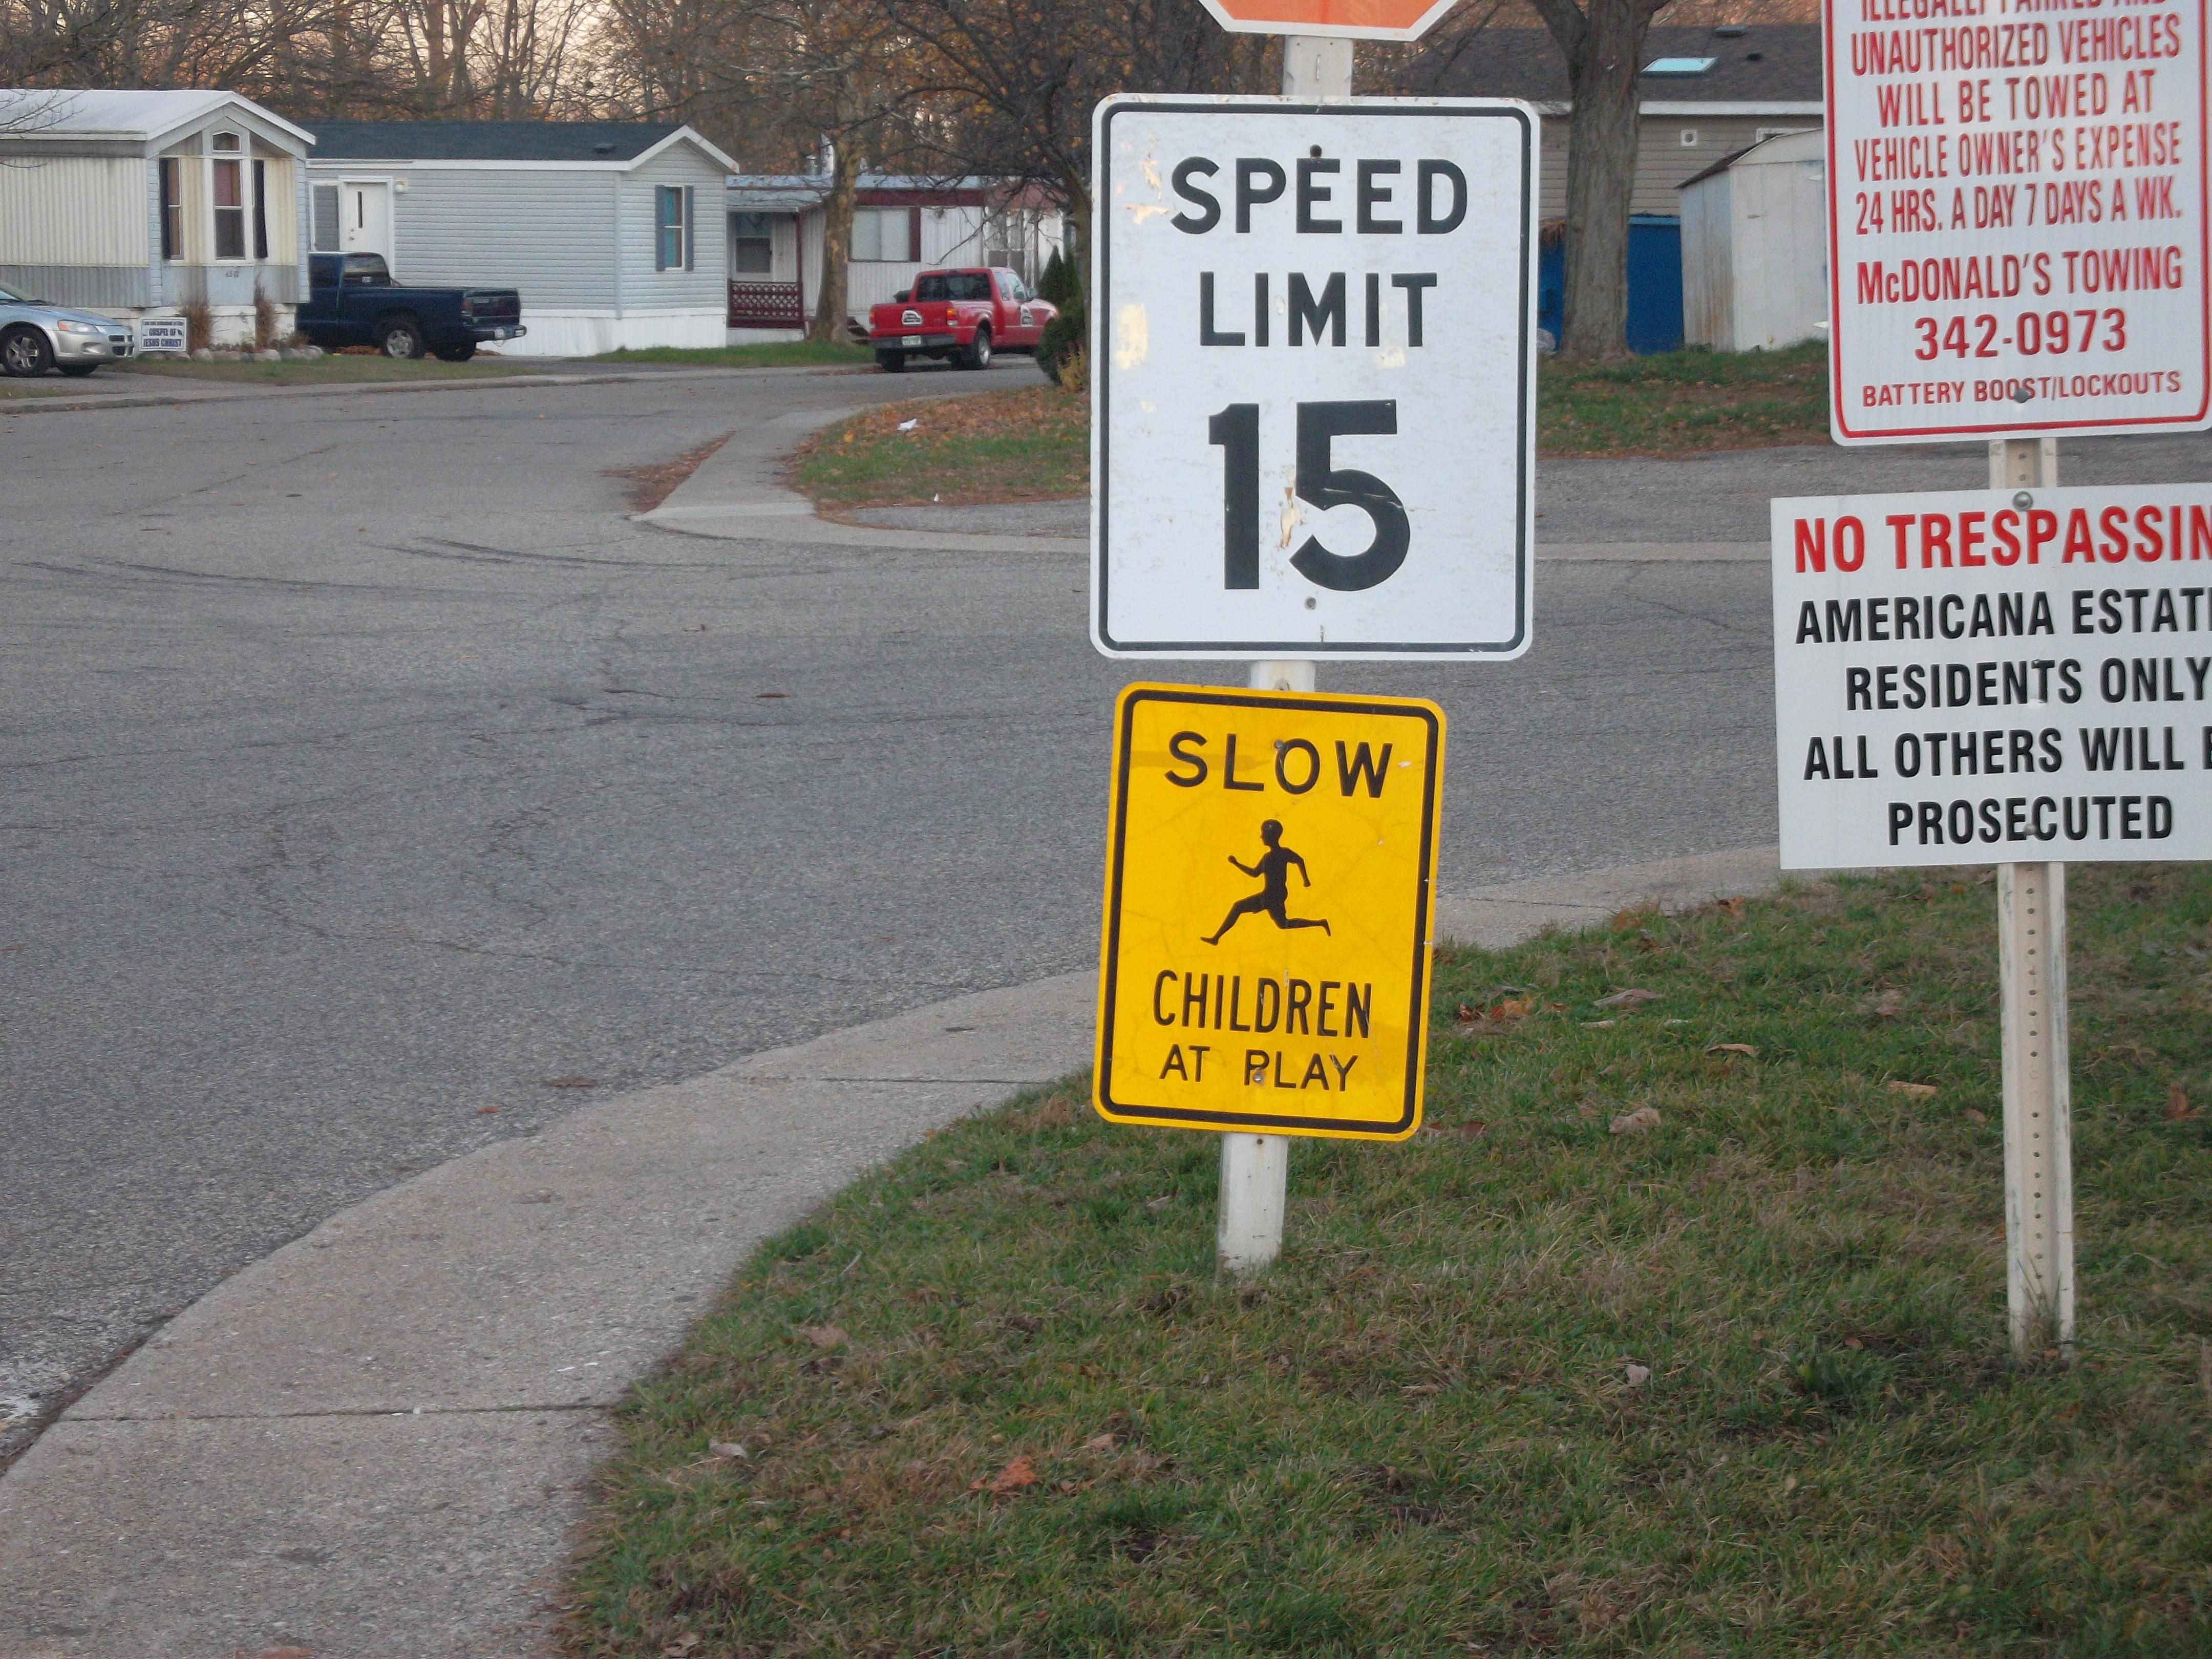regulatory: (1089, 84, 1543, 667)
warning: (1094, 674, 1447, 1147)
